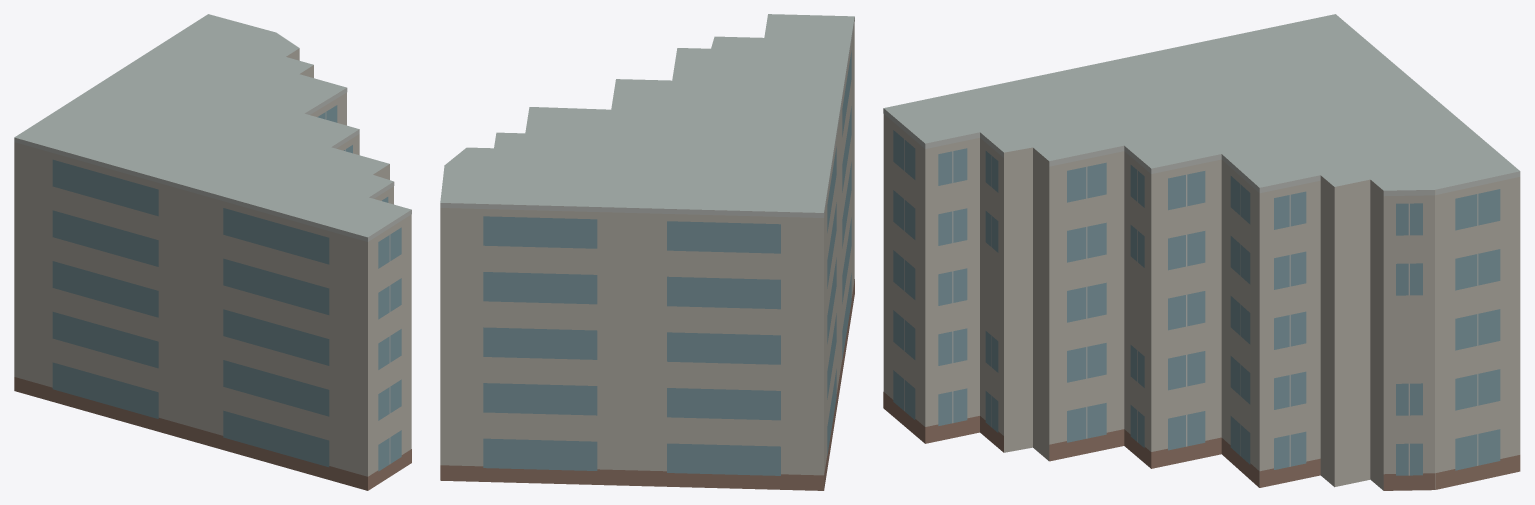
File: survey-upis-32964867.glb
3 views of the same model, side by side, from view 1: azimuth 30°, elevation 25°; view 2: azimuth 150°, elevation 25°; view 3: azimuth 270°, elevation 25° (orthographic). The views are drawn at different scales.
Visible parts, largest first — view 1: survey-upis-32964867.tmp; view 2: survey-upis-32964867.tmp; view 3: survey-upis-32964867.tmp.
Boxes of the visible parts, x1,y1,x2,y2 form: survey-upis-32964867.tmp: [14, 14, 411, 490]; survey-upis-32964867.tmp: [440, 14, 854, 490]; survey-upis-32964867.tmp: [883, 14, 1520, 490].
Size of the model in its own units: 16.86 by 13.35 by 25.68.
